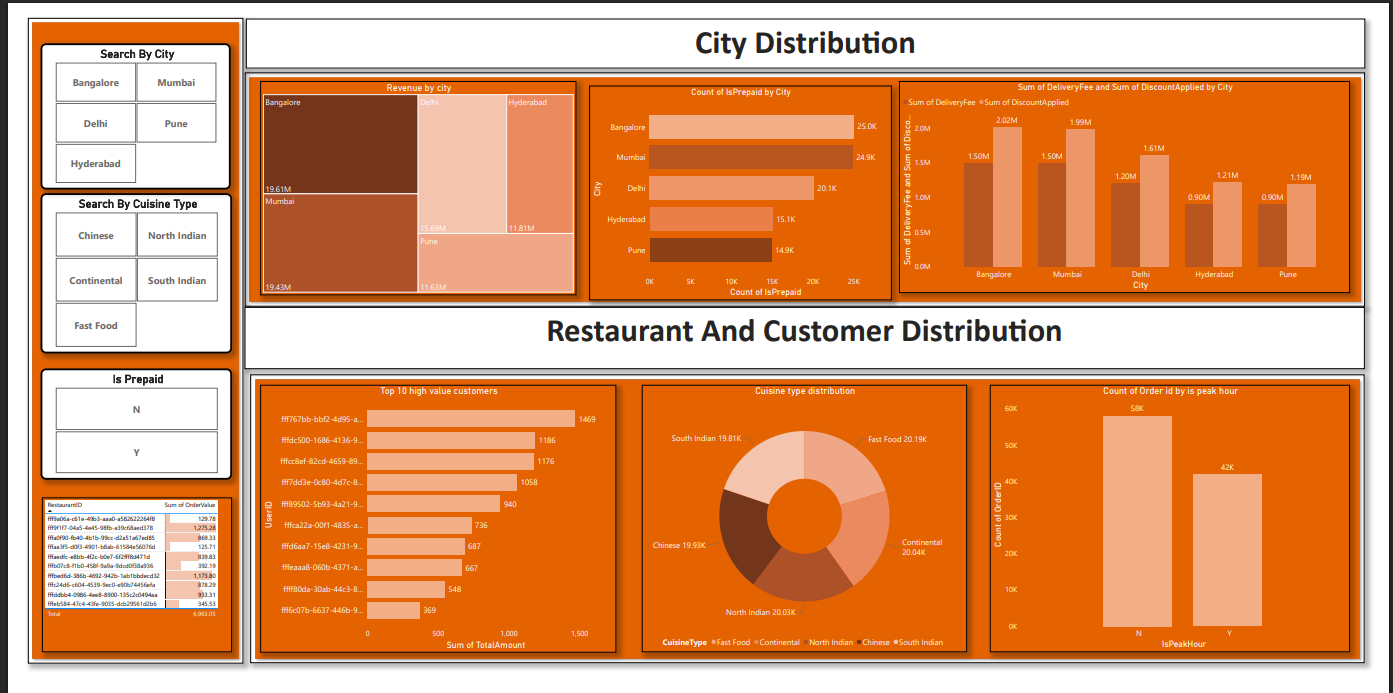

What the dashboard file says about the page in this screenshot:
{"tool":"tableau","page":{"name":"Dashboard 1","canvas":[1720,1160],"ordinal":0},"visuals":[{"type":"text","box":[5,4,1715,126]},{"type":"worksheet","title":"Sheet 2","mark":"Automatic","rows":["OrderID"],"cols":["OrderDatetime"],"box":[554,133,561,330]},{"type":"worksheet","title":"Sheet 3","mark":"Automatic","rows":["DeliveryFee"],"cols":["City"],"box":[1121,134,596,327]},{"type":"worksheet","title":"Sheet 1","mark":"Automatic","rows":["City"],"cols":["OrderValue"],"box":[7,135,542,324]},{"type":"worksheet","title":"Sheet 10","mark":"Circle","box":[4,461,510,350]},{"type":"worksheet","title":"Sheet 6","mark":"Automatic","rows":["UserID"],"cols":["TotalAmount"],"box":[516,464,593,344]},{"type":"worksheet","title":"Sheet 5","mark":"Automatic","box":[1112,464,607,347]},{"type":"legend","title":"Sheet 5","param":"[federated.0jja2vn1pwjt8g0zpawjo116l75y].[sum:TotalAmount:qk]","box":[1546,472,166,43]},{"type":"worksheet","title":"Sheet 9","mark":"Automatic","rows":["RestaurantID"],"cols":["OrderValue"],"box":[501,815,552,338]},{"type":"worksheet","title":"Sheet 7","mark":"Pie","box":[1057,815,334,337]},{"type":"worksheet","title":"Sheet 4","mark":"Circle","box":[1396,815,323,337]},{"type":"worksheet","title":"Sheet 8","mark":"Pie","box":[4,816,490,335]},{"type":"legend","title":"Sheet 7","param":"[federated.0jja2vn1pwjt8g0zpawjo116l75y].[cnt:OrderValue:qk]","box":[1079,1099,230,44]}]}

Visuals, with their boxes on the page's 1720x1160 design canvas (x1, y1, x2, y2). These are canvas units, not pixel positions in the 1393x693 screenshot, which may show the page scaled, cropped or inside an application window:
text: <bbox>5, 4, 1720, 130</bbox>
"Sheet 2" worksheet: <bbox>554, 133, 1115, 463</bbox>
"Sheet 3" worksheet: <bbox>1121, 134, 1717, 461</bbox>
"Sheet 1" worksheet: <bbox>7, 135, 549, 459</bbox>
"Sheet 10" worksheet (Circle marks): <bbox>4, 461, 514, 811</bbox>
"Sheet 6" worksheet: <bbox>516, 464, 1109, 808</bbox>
"Sheet 5" worksheet: <bbox>1112, 464, 1719, 811</bbox>
"Sheet 5" legend: <bbox>1546, 472, 1712, 515</bbox>
"Sheet 9" worksheet: <bbox>501, 815, 1053, 1153</bbox>
"Sheet 7" worksheet (Pie marks): <bbox>1057, 815, 1391, 1152</bbox>
"Sheet 4" worksheet (Circle marks): <bbox>1396, 815, 1719, 1152</bbox>
"Sheet 8" worksheet (Pie marks): <bbox>4, 816, 494, 1151</bbox>
"Sheet 7" legend: <bbox>1079, 1099, 1309, 1143</bbox>
